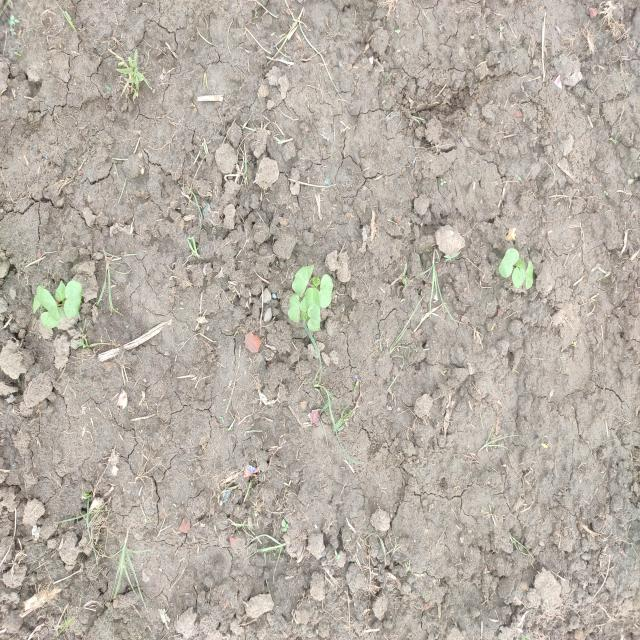seedling_s4: (292, 265, 314, 297), (64, 280, 82, 318), (39, 289, 59, 321), (498, 248, 519, 278), (40, 307, 65, 330), (319, 274, 333, 308), (307, 304, 321, 332), (33, 285, 45, 314), (288, 294, 300, 322), (305, 288, 320, 308), (512, 267, 526, 288), (525, 260, 533, 289), (55, 281, 66, 301), (299, 295, 310, 312), (514, 257, 526, 270), (312, 276, 321, 286)
